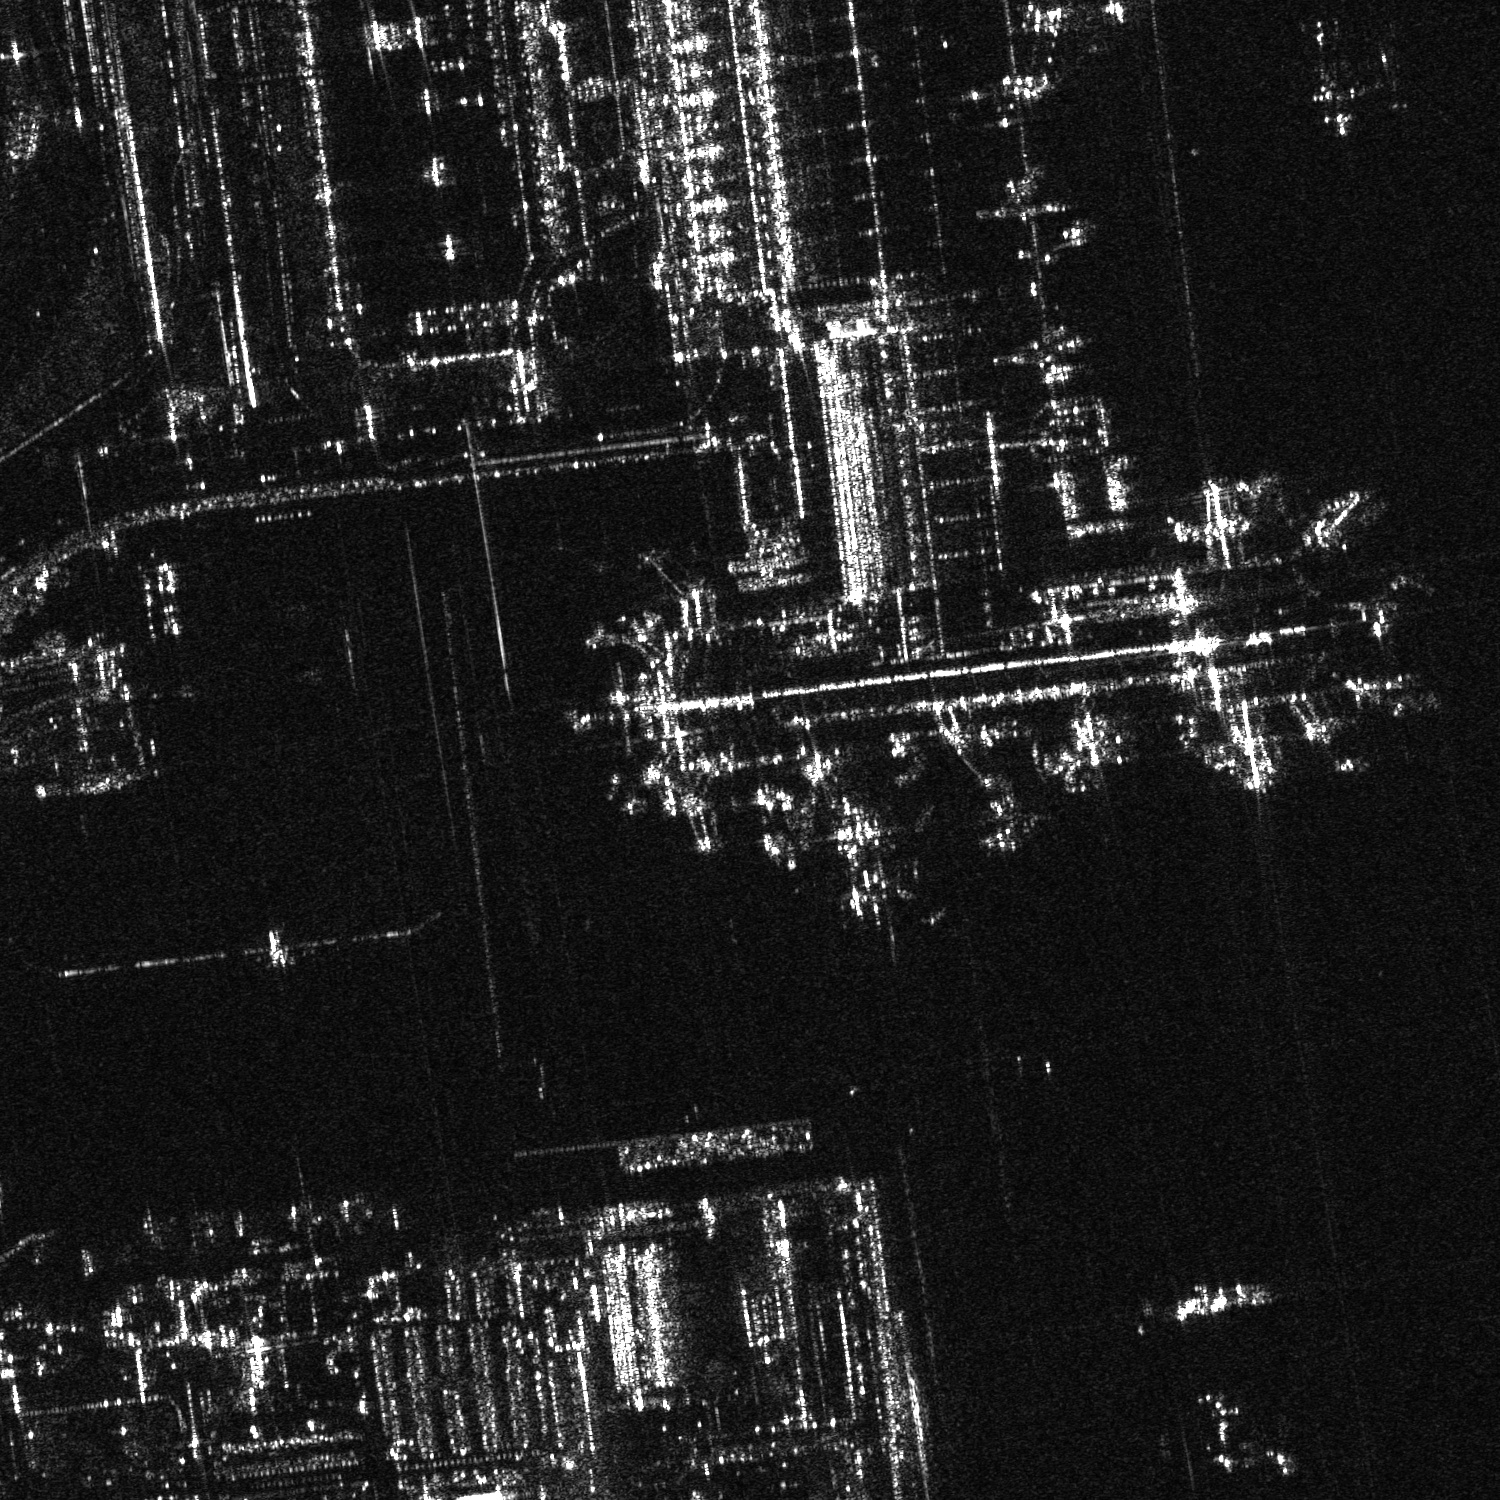Boeing787: (1294, 40, 1387, 144)
